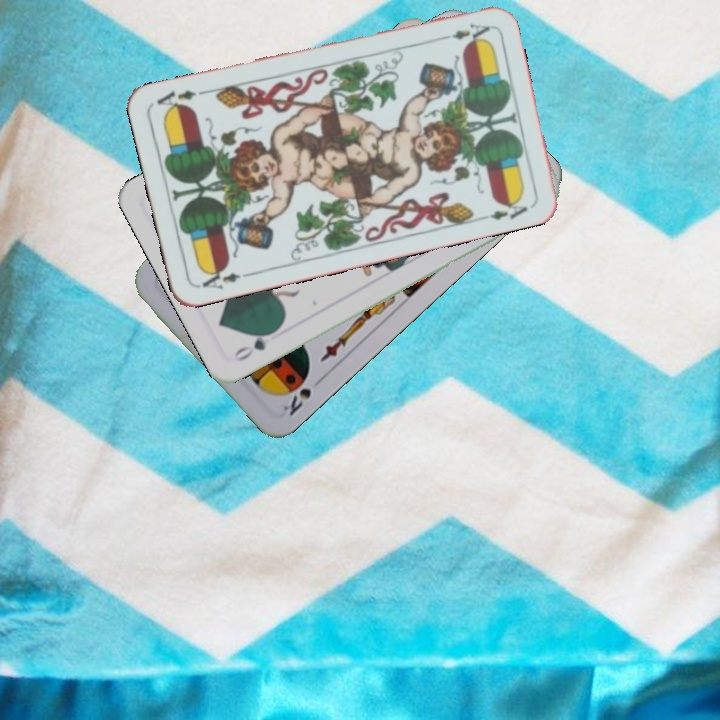EA: (195, 263, 253, 292), (434, 19, 493, 44)
GO: (230, 324, 281, 364)
SK: (278, 384, 314, 419)
